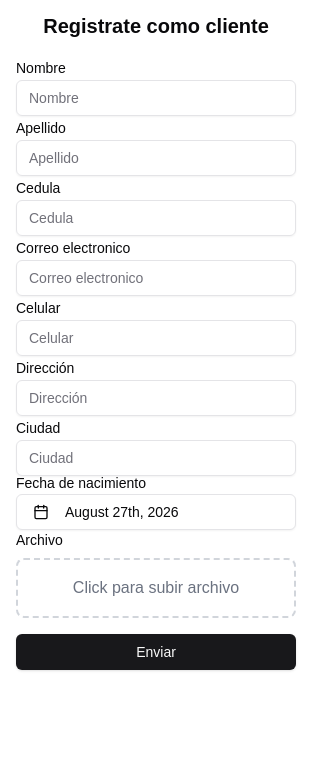
Test case: RegisterForm › blocks submit and shows an error when a required field is empty
The width and height of the screenshot is (320, 769).
Click the button "Enviar" at (156, 652), box [16,634,296,670]
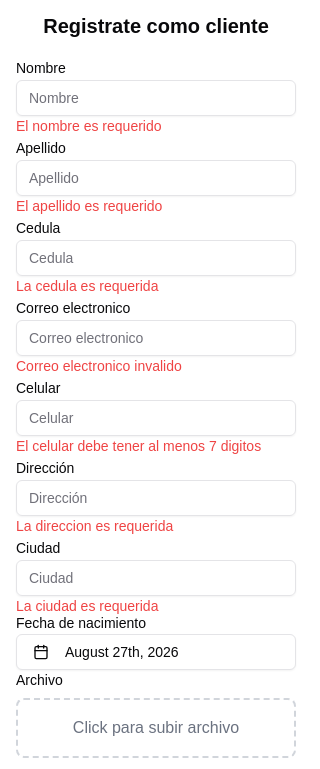
Now the text "El nombre es requerido" is shown, box [16,118,162,134]
